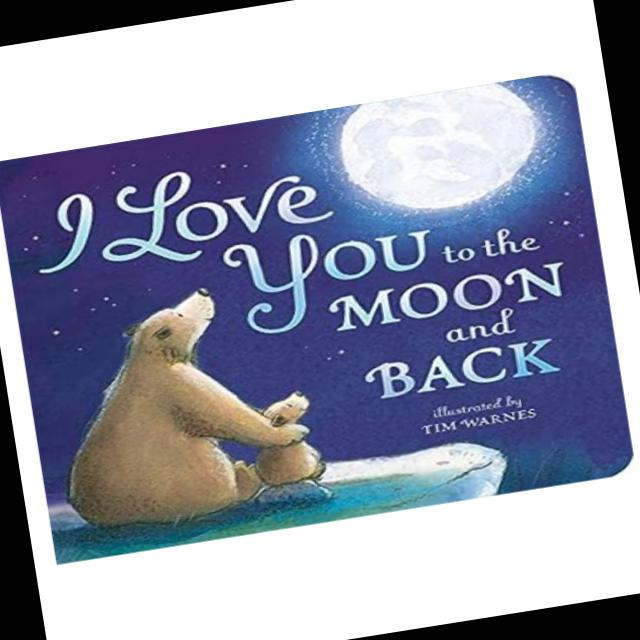titles-or-authors: (18, 104, 591, 458), (414, 402, 550, 444)
